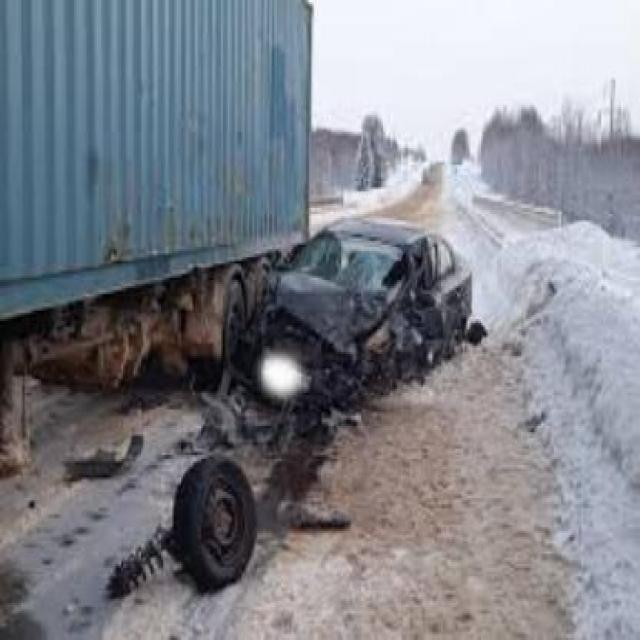accident: (0, 0, 484, 438)
